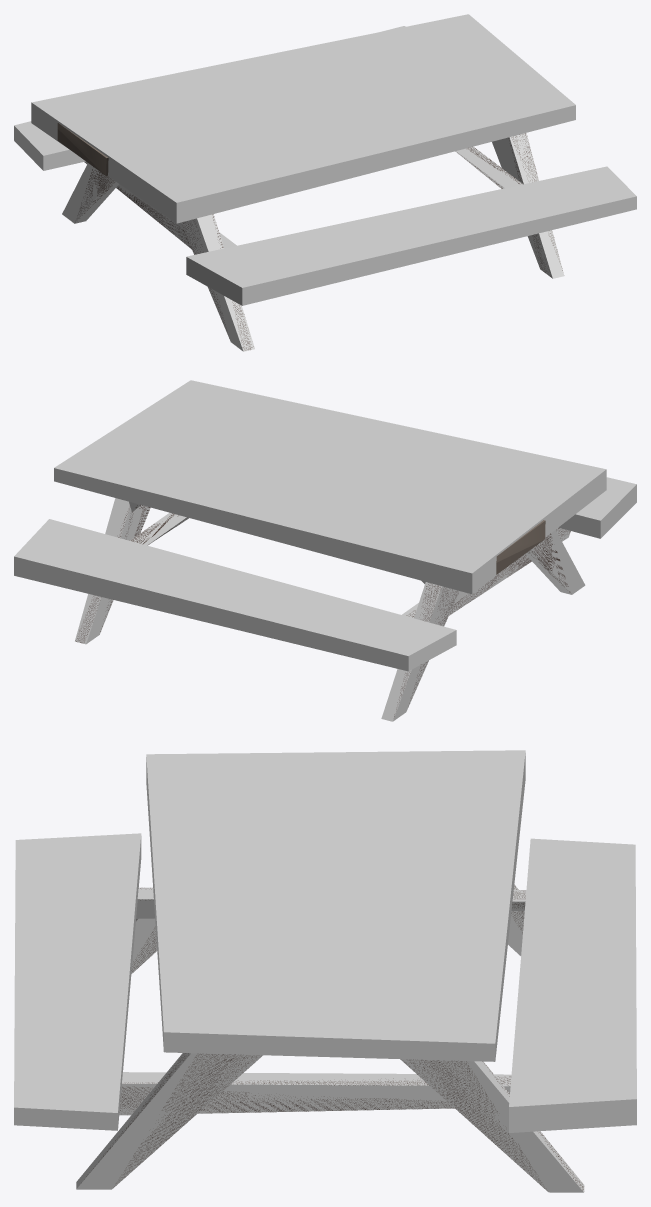
Rendered from model_polytope_park_bench.fbx.
3 views of the same model, one above another, from view 1: azimuth 30°, elevation 25°; view 2: azimuth 150°, elevation 25°; view 3: azimuth 270°, elevation 25° (orthographic). The views are drawn at different scales.
Visible parts, largest first — view 1: model_polytope_park_bench_col, model_polytope_park_bench; view 2: model_polytope_park_bench_col, model_polytope_park_bench; view 3: model_polytope_park_bench_col, model_polytope_park_bench.
Part boxes in pixels (bbox=[...]): model_polytope_park_bench_col: bbox=[14, 14, 636, 351]; model_polytope_park_bench: bbox=[57, 123, 562, 350]; model_polytope_park_bench_col: bbox=[14, 380, 636, 721]; model_polytope_park_bench: bbox=[75, 505, 570, 716]; model_polytope_park_bench_col: bbox=[14, 750, 636, 1192]; model_polytope_park_bench: bbox=[84, 886, 583, 1190].
Bounding box in the file's own units: 265 × 84.76 × 246.
2 materials, 1 textured.
